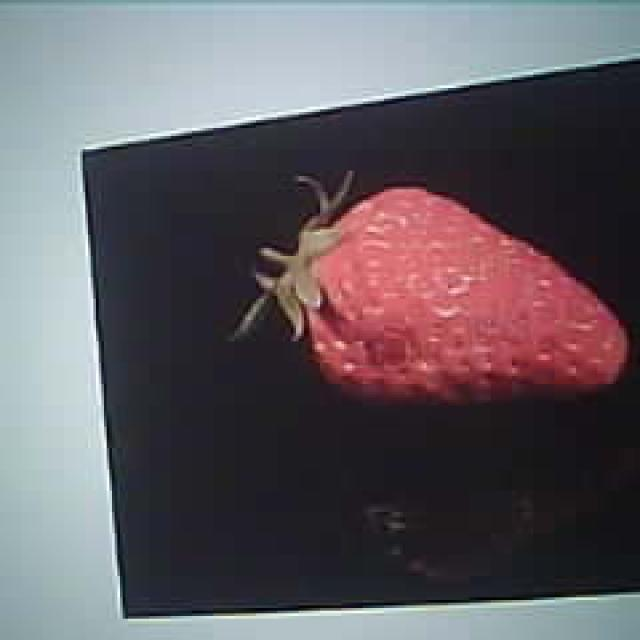strawberry: (287, 185, 627, 405)
